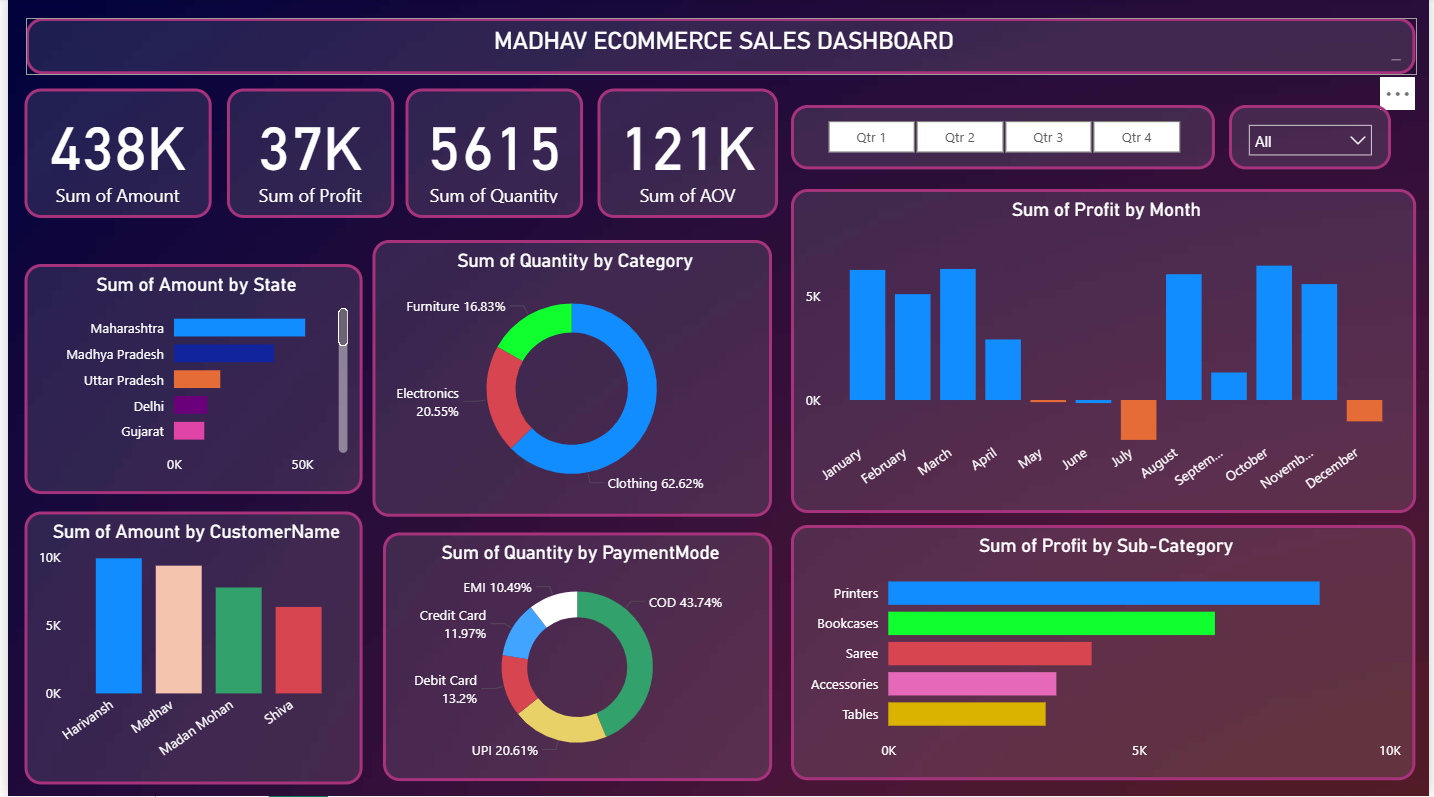

The page's visual inventory and layout, read from the dashboard file:
{"tool":"powerbi","page":{"name":"Page 1","canvas":[1280,720],"ordinal":0},"visuals":[{"type":"textbox","title":"MADHAV ECOMMERCE SALES DASHBOARD","box":[16.4,19.4,1252.2,50.7],"z":0},{"type":"columnChart","fields":{"Category":["Orders.Order Date.Variation.Date Hierarchy.Month"],"Y":["Details.Profit"]},"box":[705.5,172.6,563,291.8],"z":1000},{"type":"barChart","fields":{"Category":["Details.Sub-Category"],"Y":["Details.Profit"]},"box":[706,476.1,562.7,229.9],"z":2000},{"type":"donutChart","fields":{"Category":["Details.Category"],"Y":["Details.Quantity"]},"box":[328.4,219.4,359.7,249.3],"z":3000},{"type":"donutChart","fields":{"Y":["Details.Quantity"],"Category":["Details.PaymentMode"]},"box":[337.3,482.1,350.7,223.9],"z":4000},{"type":"card","fields":{"Values":["Details.Amount"]},"box":[14.9,82.1,168.7,116.4],"z":5000},{"type":"card","fields":{"Values":["Details.Profit"]},"box":[197,82.1,150.7,116.4],"z":6000},{"type":"card","fields":{"Values":["Details.Quantity"]},"box":[358.2,82.1,159.7,116.4],"z":7000},{"type":"card","fields":{"Values":["Details.AOV"]},"box":[531.3,82.1,162.7,116.4],"z":8000},{"type":"barChart","title":"Sum of Amount by State ","fields":{"Y":["Details.Amount"],"Series":["Orders.State"],"Category":["Orders.State"]},"box":[14.9,240.3,304.5,207.5],"z":9000},{"type":"columnChart","fields":{"Y":["Details.Amount"],"Category":["Orders.CustomerName"]},"box":[14.9,464.2,304.5,246.3],"z":11000},{"type":"slicer","fields":{"Values":["Orders.Order Date.Variation.Date Hierarchy.Quarter"]},"box":[706,97,382.1,58.2],"z":11001},{"type":"slicer","fields":{"Values":["Orders.State"]},"box":[1100,97,146.3,58.2],"z":11002}]}

Visuals, with their boxes in screenshot pixels (x1, y1, x2, y2), scaled from the page's 1280x720 canvas onto the 1434x797 screenshot:
"MADHAV ECOMMERCE SALES DASHBOARD" textbox: left=18, top=21, right=1421, bottom=78
columnChart - Orders.Order Date.Variation.Date Hierarchy.Month x Details.Profit: left=790, top=191, right=1421, bottom=514
barChart - Details.Sub-Category x Details.Profit: left=791, top=527, right=1421, bottom=782
donutChart - Details.Category x Details.Quantity: left=368, top=243, right=771, bottom=519
donutChart - Details.Quantity x Details.PaymentMode: left=378, top=534, right=771, bottom=782
card - Details.Amount: left=17, top=91, right=206, bottom=220
card - Details.Profit: left=221, top=91, right=390, bottom=220
card - Details.Quantity: left=401, top=91, right=580, bottom=220
card - Details.AOV: left=595, top=91, right=777, bottom=220
"Sum of Amount by State " barChart: left=17, top=266, right=358, bottom=496
columnChart - Details.Amount x Orders.CustomerName: left=17, top=514, right=358, bottom=786
slicer - Orders.Order Date.Variation.Date Hierarchy.Quarter: left=791, top=107, right=1219, bottom=172
slicer - Orders.State: left=1232, top=107, right=1396, bottom=172
